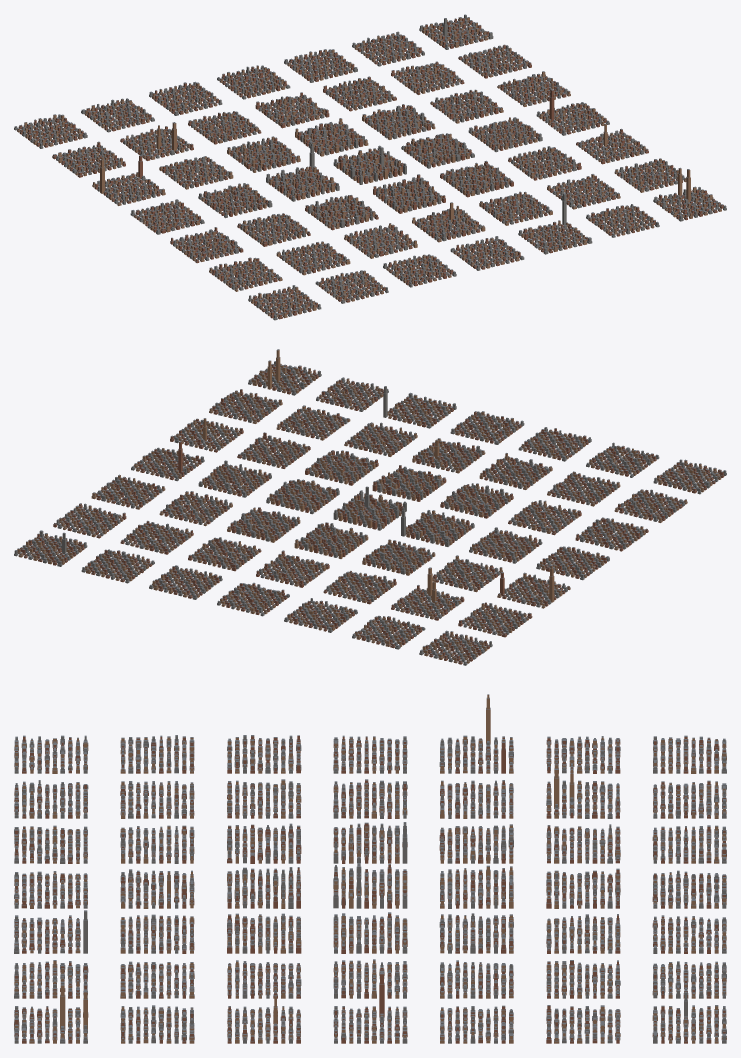
File: downtown_dense_impostor.obj
The picture shows the model from 3 angles, top to bottom: view 1: azimuth 30°, elevation 25°; view 2: azimuth 150°, elevation 25°; view 3: azimuth 270°, elevation 25°; orthographic projection. The views are drawn at different scales.
Parts seen in each view (by area): view 1: downtown_dense_impostor; view 2: downtown_dense_impostor; view 3: downtown_dense_impostor.
Boxes of the visible parts, bbox=[...] form: downtown_dense_impostor: bbox=[14, 14, 726, 320]; downtown_dense_impostor: bbox=[14, 349, 726, 665]; downtown_dense_impostor: bbox=[14, 694, 726, 1043].
Bounding box in the file's own units: 2110 × 160 × 2110.
